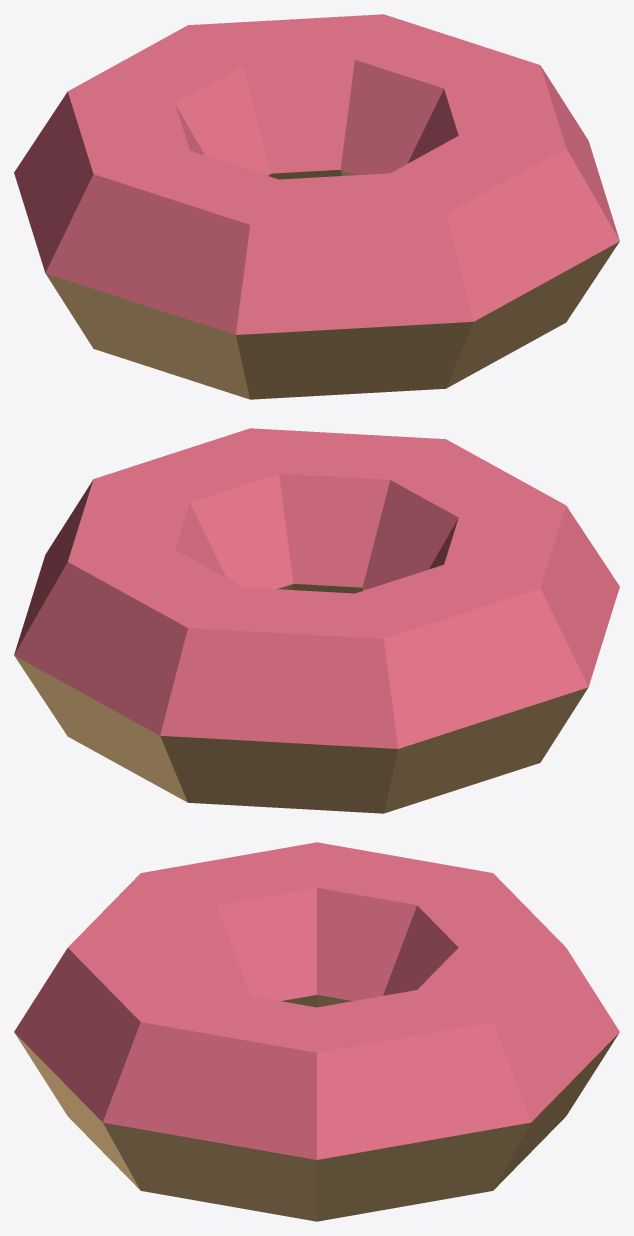
The model's file is C_Donut_3.fbx.
The picture shows the model from 3 angles, top to bottom: view 1: azimuth 30°, elevation 25°; view 2: azimuth 150°, elevation 25°; view 3: azimuth 270°, elevation 25°; orthographic projection. The views are drawn at different scales.
Parts seen in each view (by area): view 1: C_Donut_3; view 2: C_Donut_3; view 3: C_Donut_3.
Part boxes in pixels (<box>): C_Donut_3: <box>14,14,619,399</box>; C_Donut_3: <box>14,428,619,813</box>; C_Donut_3: <box>14,842,619,1221</box>.
Size of the model in its own units: 91.75 by 91.75 by 28.19.
